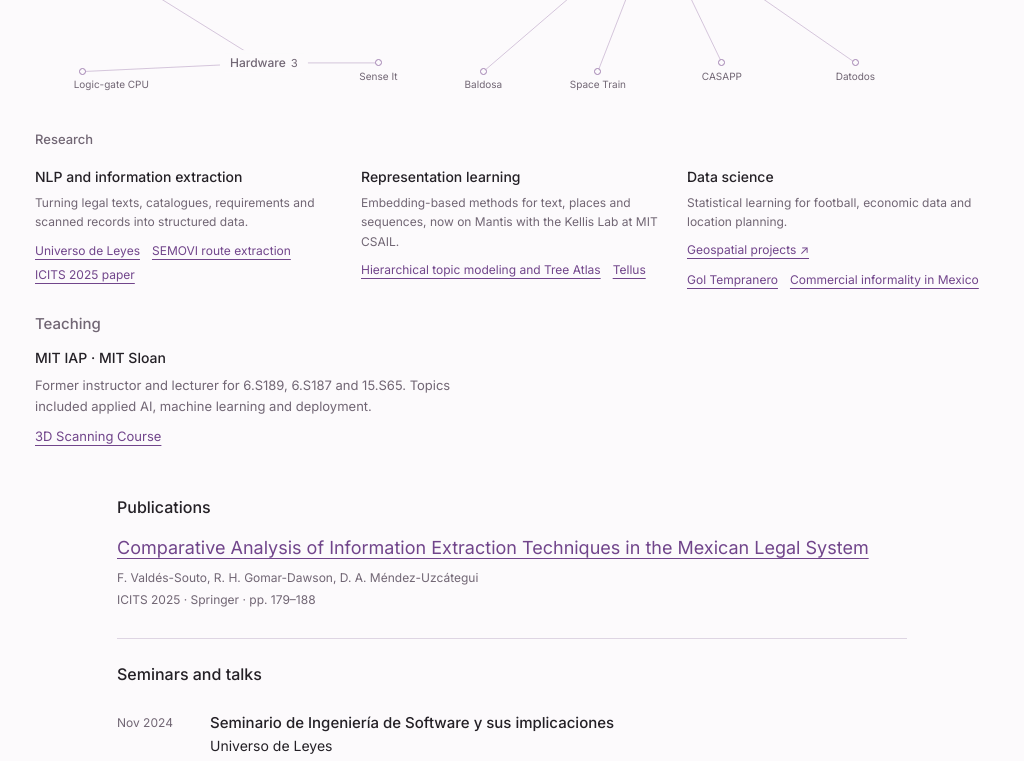
Test: uses the single reading column and opens the full seminar details from its title
(page scrolled)
Expected: the text "Former instructor and lecturer for 6.S189" is shown, [35,377,450,414]
Hover over the element "MIT IAP · MIT Sloan" at (245, 382), box [35,347,455,416]
(page scrolled)
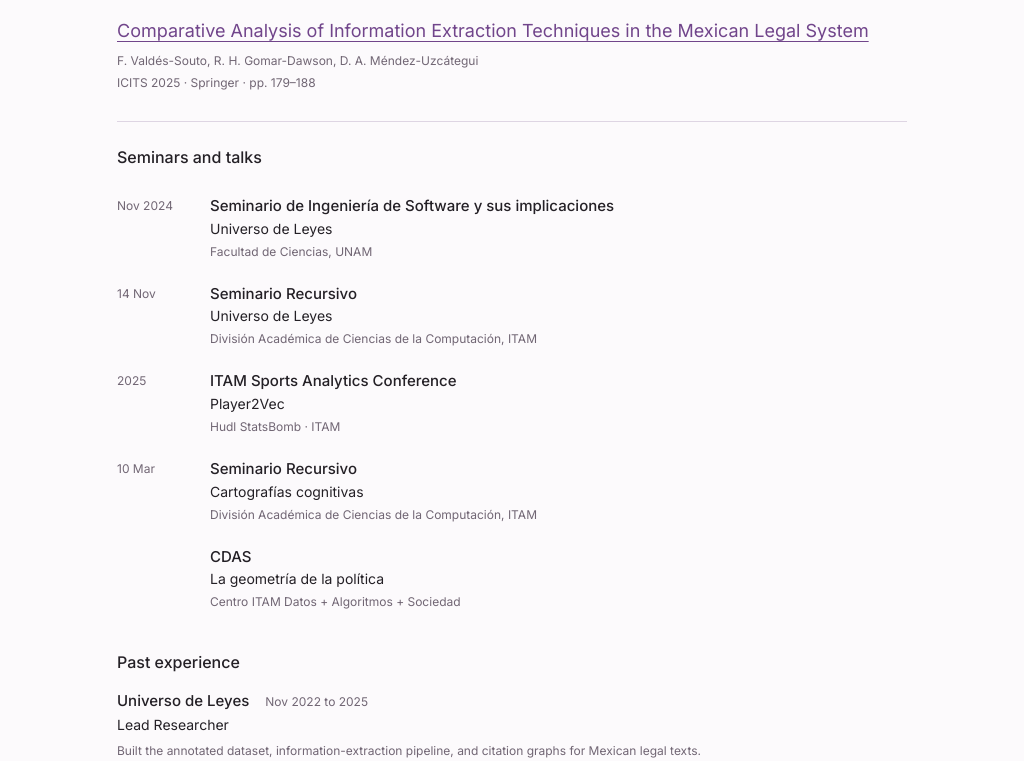
Click the button "ITAM Sports Analytics Conference". click: (333, 382)
box: [210,370,457,393]
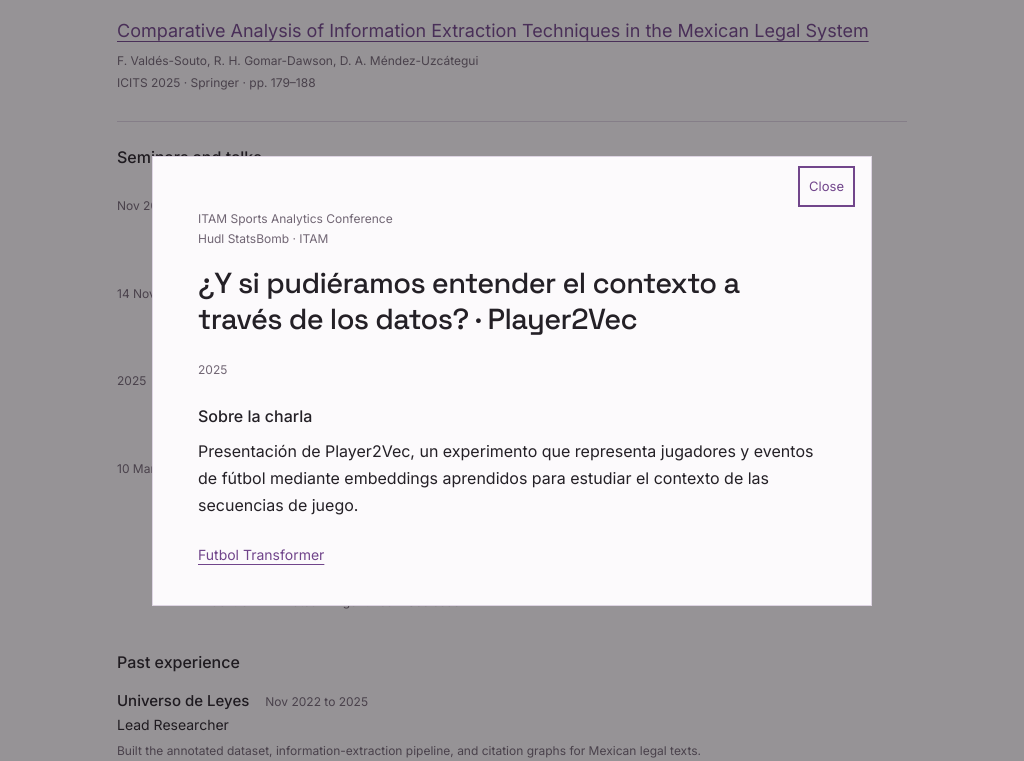
Expected: the heading "¿Y si pudiéramos" is shown, [198,265,826,337]
